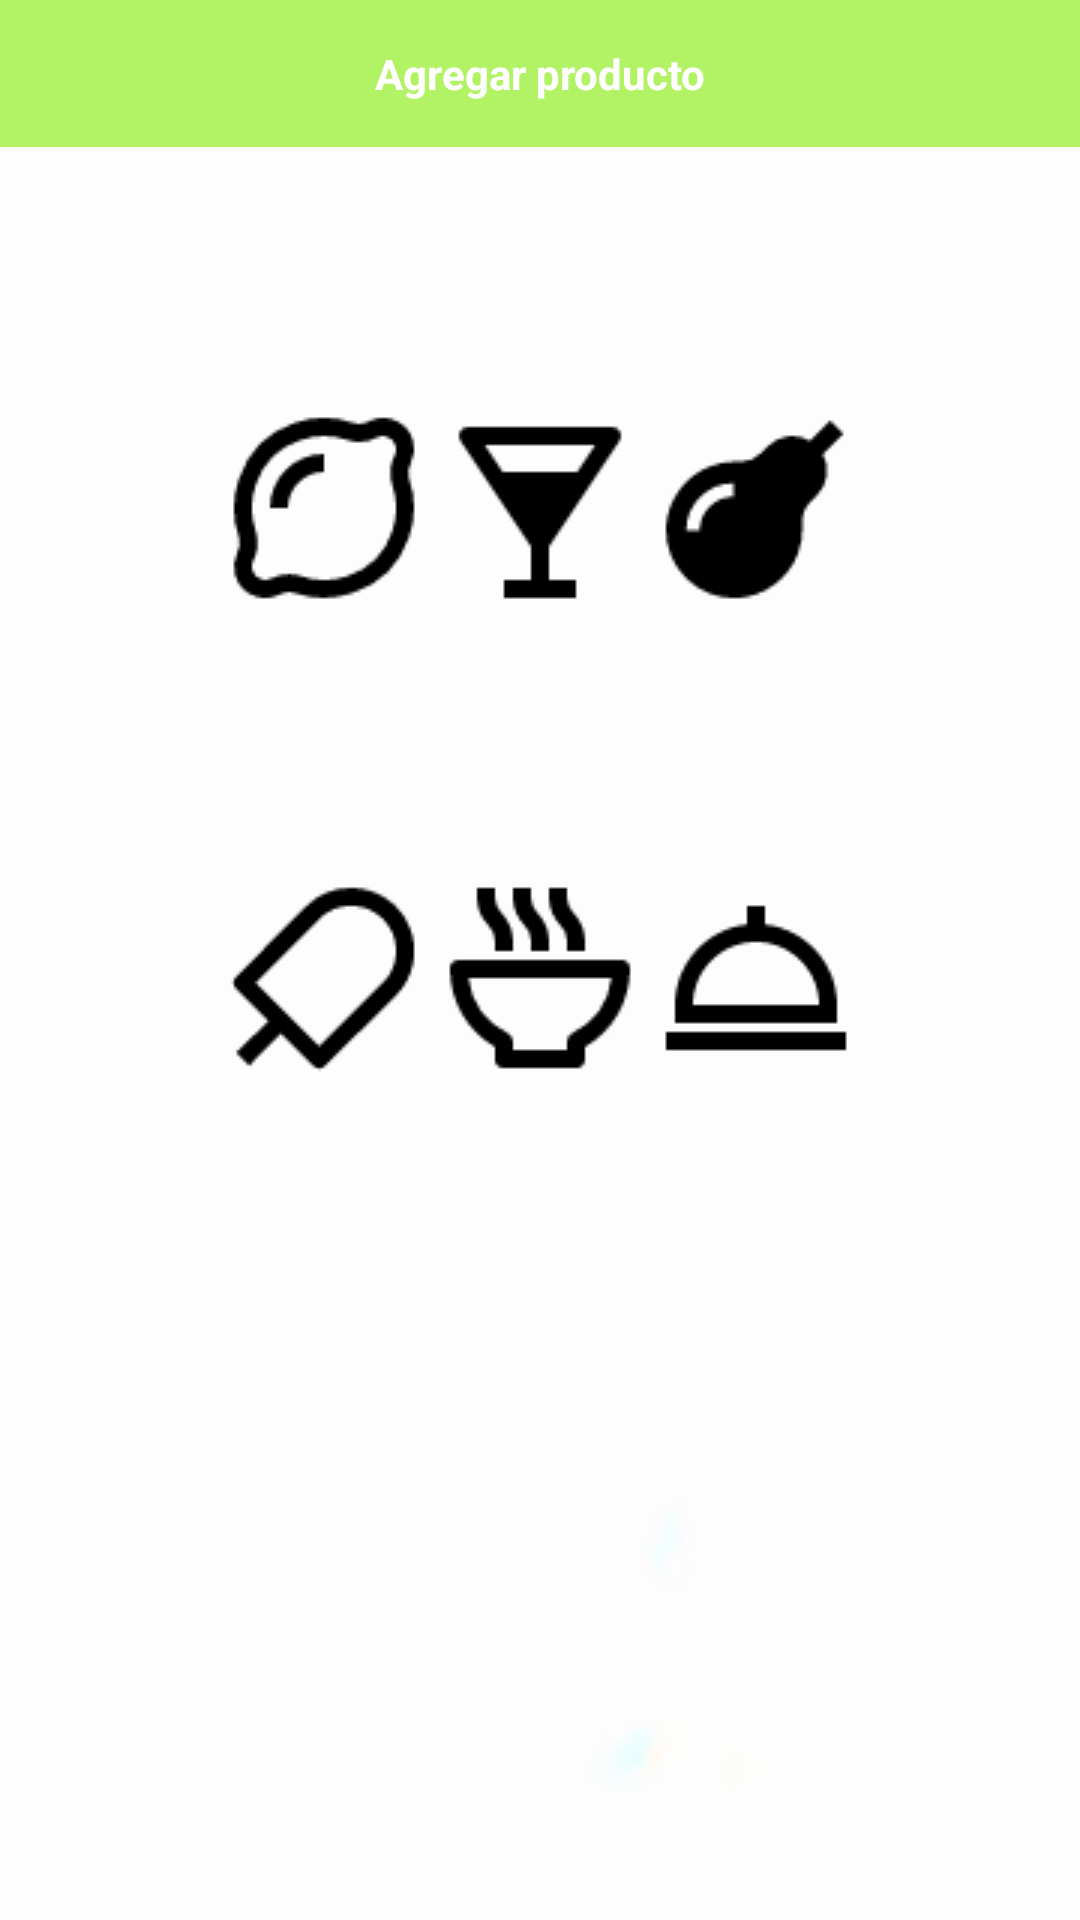

Screen size 1080*1920. Icon name, then its box in pixels as (x1, y1, x2, y2):
bowl: (449, 887, 631, 1069)
dish: (665, 905, 847, 1051)
drink: (458, 426, 622, 599)
lemon: (233, 417, 415, 599)
pear: (665, 420, 844, 599)
pop: (231, 887, 415, 1071)
